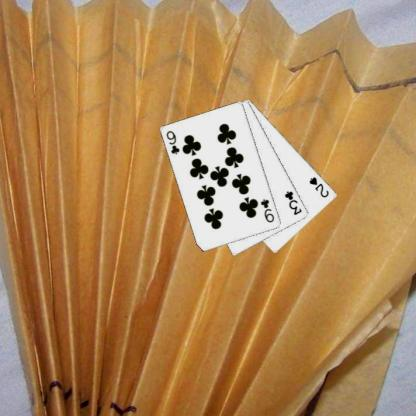2S: (307, 174, 330, 198)
3C: (282, 189, 303, 216)
9C: (258, 196, 276, 224), (164, 128, 181, 156)
